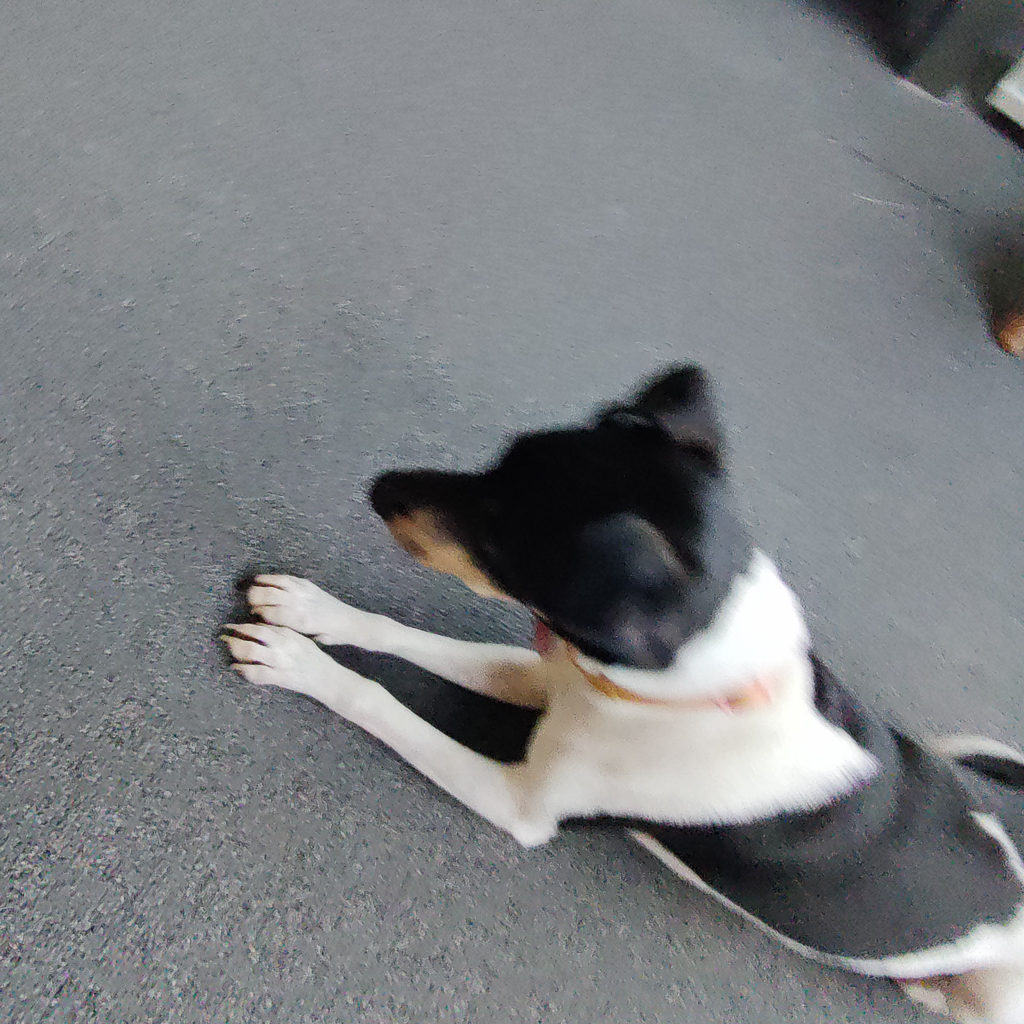Cattle: (956, 282, 1024, 386)
Dog: (200, 352, 1024, 1024)
